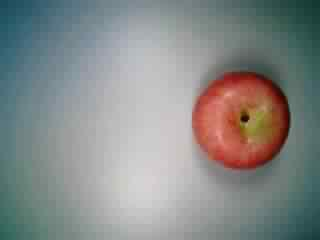apple: (192, 71, 296, 172)
